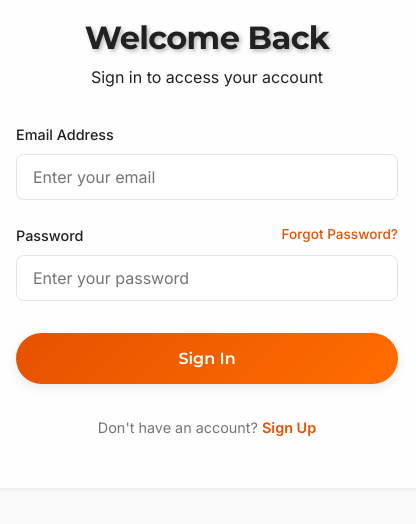
Login Page › handles login failure with error message
Type "wrong@example.com" into the field labelled "Email Address" at (207, 177), box [16,154,398,200]
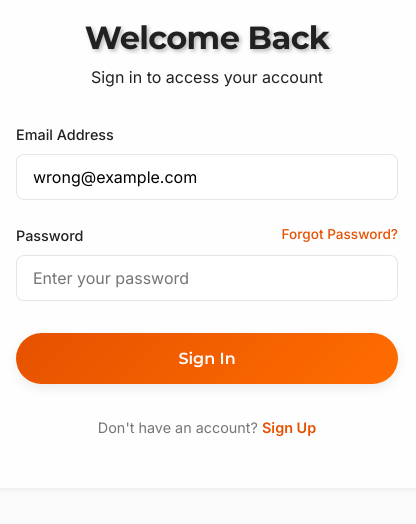
Type "wrongpass" into the password field labelled "Password" at (207, 278), box [16,255,398,301]
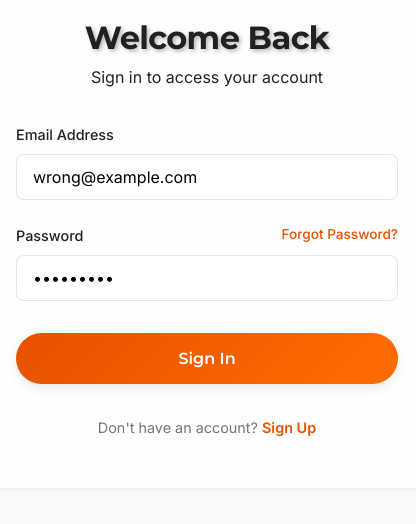
Click the button "Sign In" at (207, 358), box [16,333,398,384]
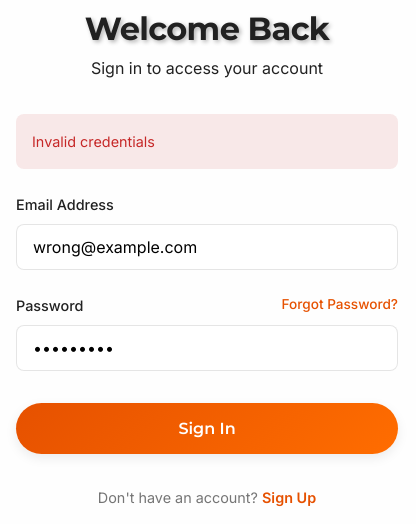
Result: the text "Invalid credentials" is shown at [16,114,398,169]
